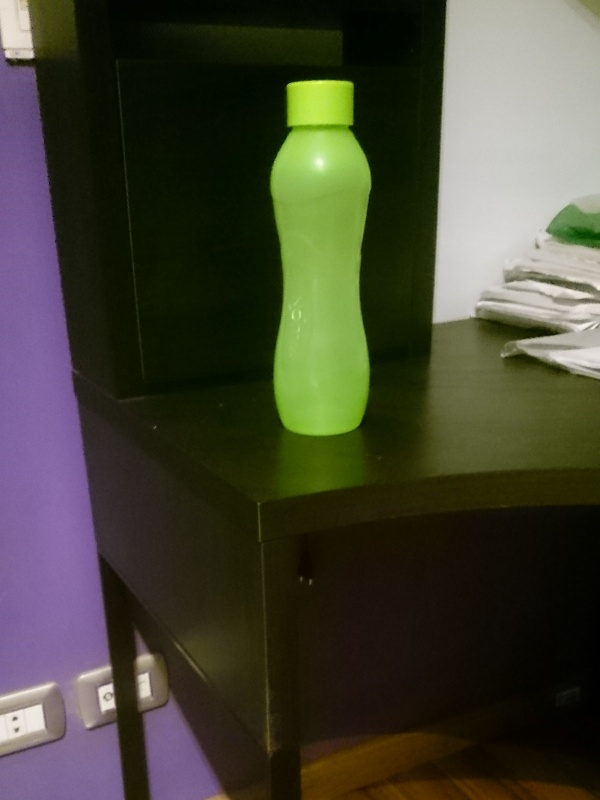my bottle: (267, 79, 370, 435)
